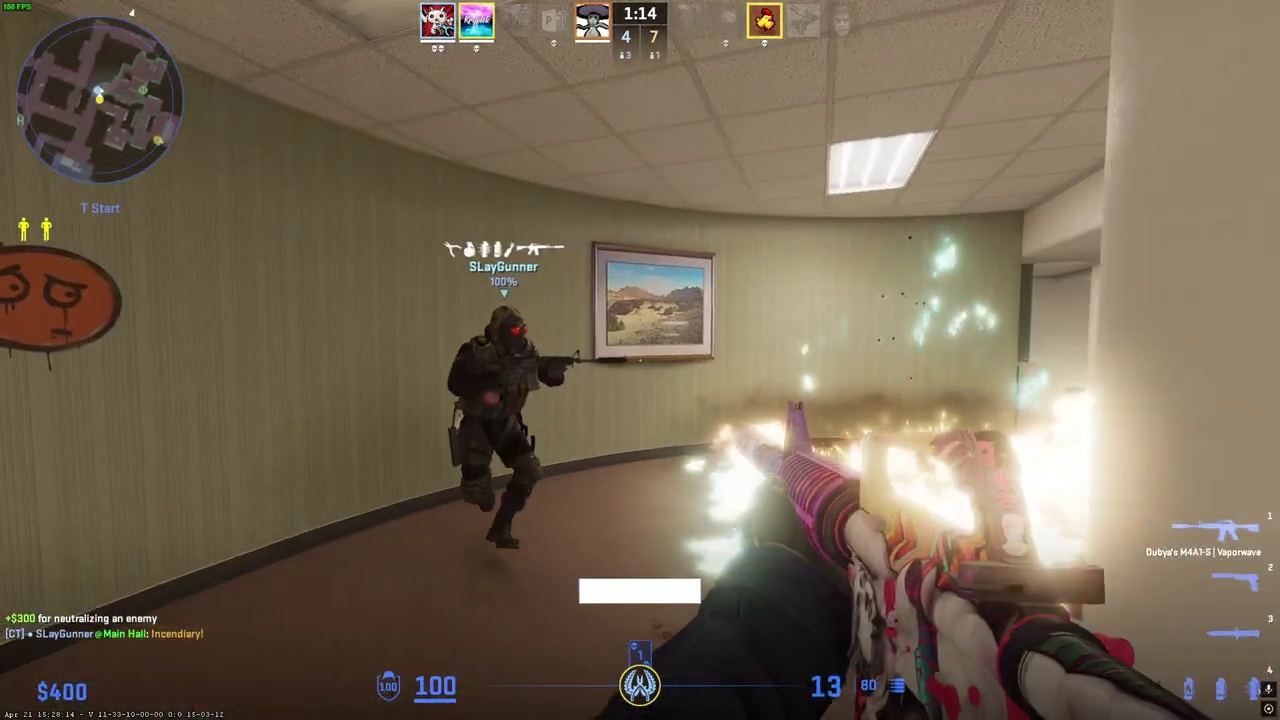CT: (450, 306, 555, 549)
